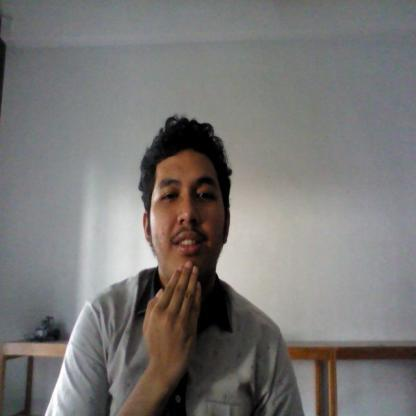Selamat-Terimakasih: (140, 259, 204, 397)
